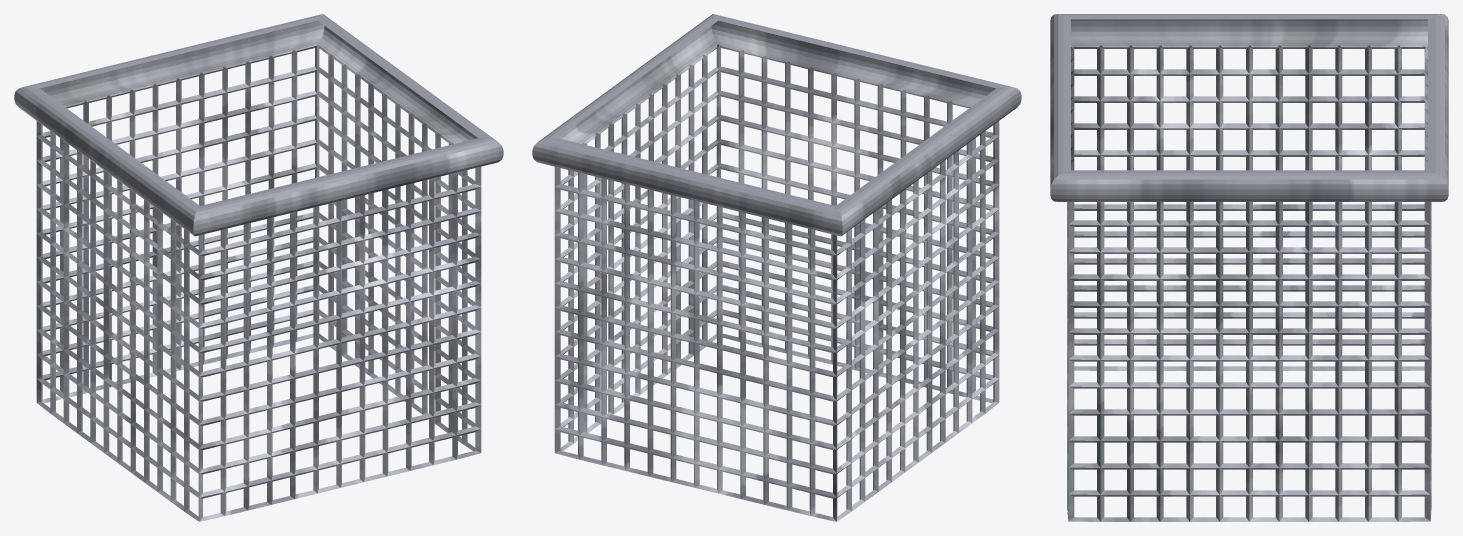
File: MeshWall.fbx
The picture shows the model from 3 angles, left to right: view 1: azimuth 30°, elevation 25°; view 2: azimuth 150°, elevation 25°; view 3: azimuth 270°, elevation 25°; orthographic projection. The views are drawn at different scales.
Parts seen in each view (by area): view 1: MeshHole; view 2: MeshHole; view 3: MeshHole.
Boxes of the visible parts, x1,y1,x2,y2 form: MeshHole: (14,14,503,521); MeshHole: (532,14,1021,521); MeshHole: (1050,14,1448,521).
Bounding box in the file's own units: 112 × 108 × 112.
